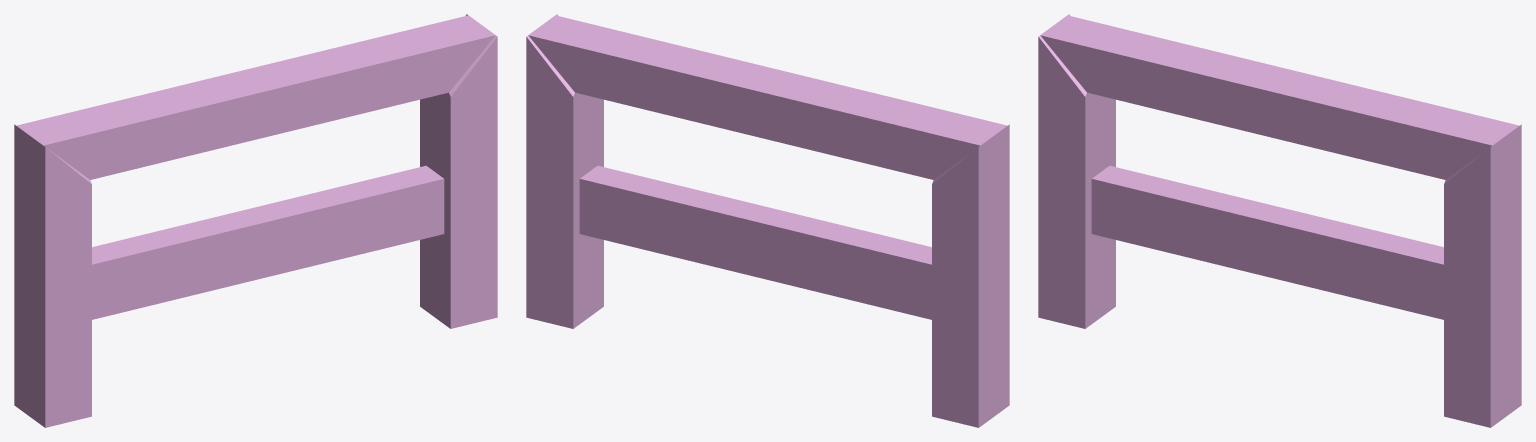
The model's file is Barreira.fbx.
3 views of the same model, side by side, from view 1: azimuth 30°, elevation 25°; view 2: azimuth 150°, elevation 25°; view 3: azimuth 330°, elevation 25° (orthographic).
Parts seen in each view (by area): view 1: Barreira; view 2: Barreira; view 3: Barreira.
Boxes of the visible parts, x1,y1,x2,y2 form: Barreira: [14, 14, 497, 427]; Barreira: [526, 14, 1009, 427]; Barreira: [1038, 14, 1521, 427].
Size of the model in its own units: 28.06 by 16.66 by 3.31.
